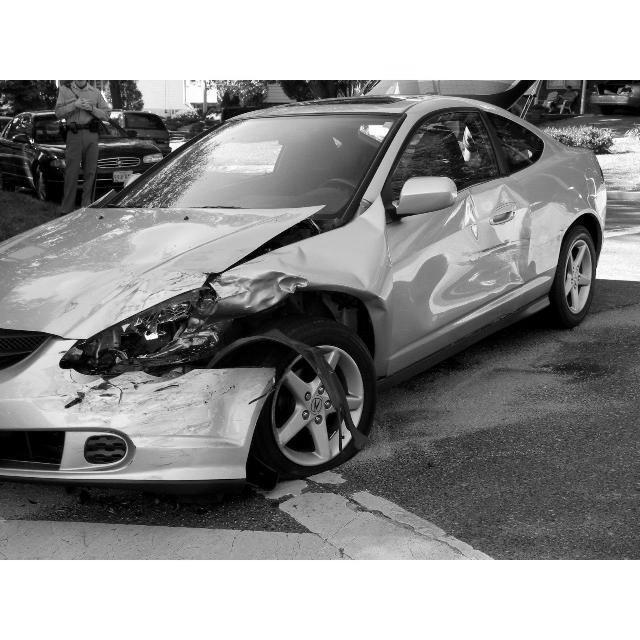bonnet-dent: (13, 199, 265, 324)
fender-dent: (215, 235, 391, 317)
front-bumper-dent: (37, 368, 263, 470)
